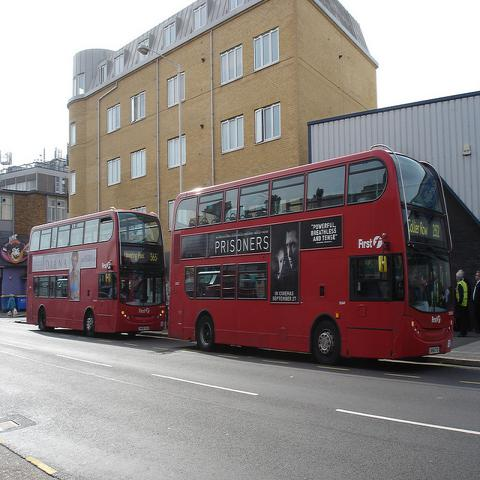bus: (166, 144, 454, 368), (25, 207, 167, 335)
